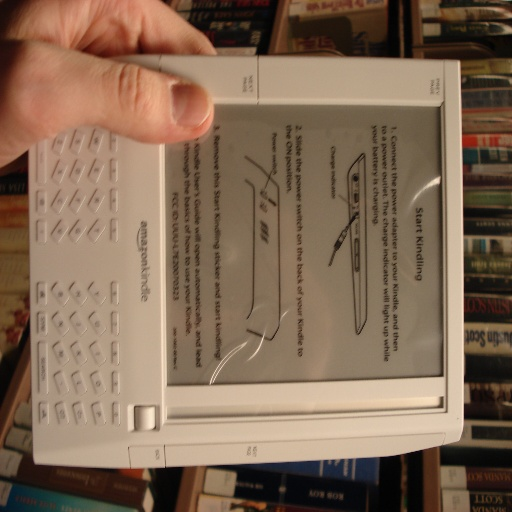hand: (11, 5, 199, 141)
